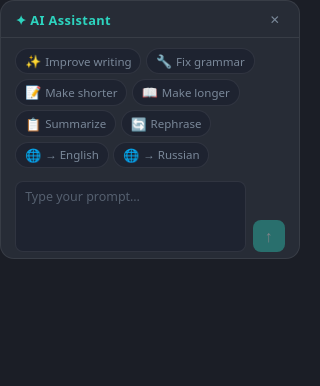
Test: OcrEditorAiPanel › copies, replaces all, and discards the streamed response
The width and height of the screenshot is (320, 386).
Type "Rewrite this" into the text box with placeholder "Type your prompt…" at (131, 216), box x1=15 y1=181 x2=246 y2=252
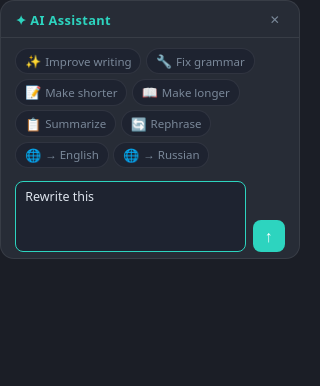
Click the button titled "Send (Ctrl+Enter)" at (269, 236), box x1=253 y1=220 x2=285 y2=252
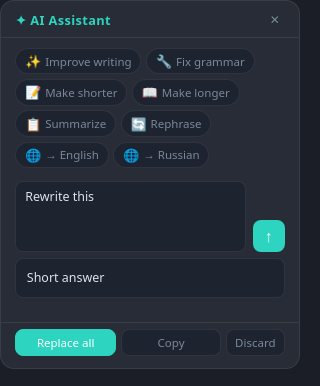
Expected: the text "Short answer" is shown, x1=15 y1=258 x2=285 y2=298
Click the button "Copy" at (171, 343), box x1=121 y1=329 x2=221 y2=356
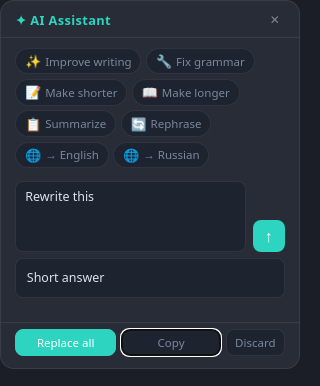
Click the button "Replace all" at (66, 343), box x1=15 y1=329 x2=116 y2=356
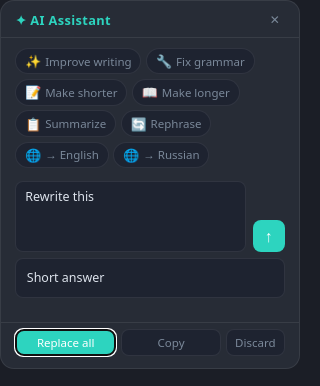
Click the button "Discard" at (255, 343), box x1=226 y1=329 x2=285 y2=356
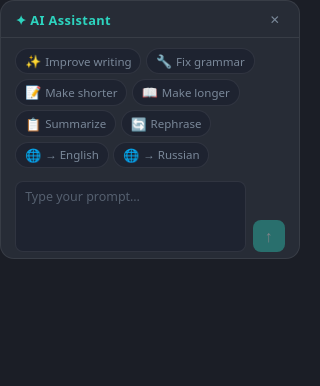
Expected: the text "Short answer" is gone
